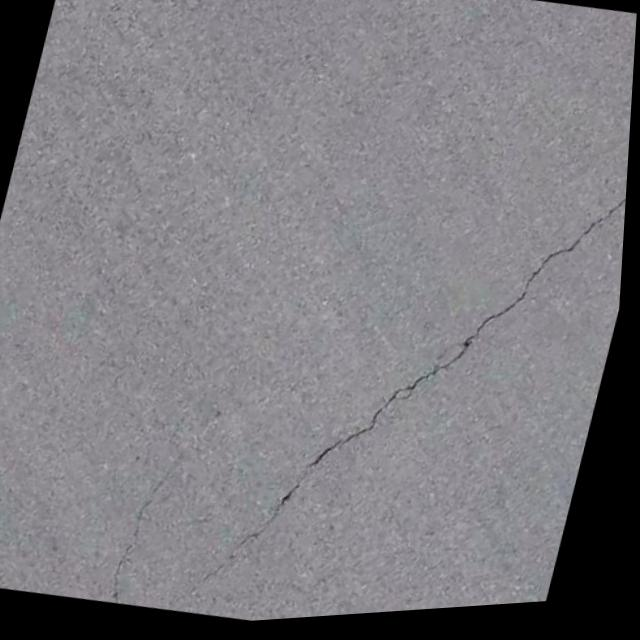Crack: (262, 13, 638, 468), (149, 418, 360, 631)
